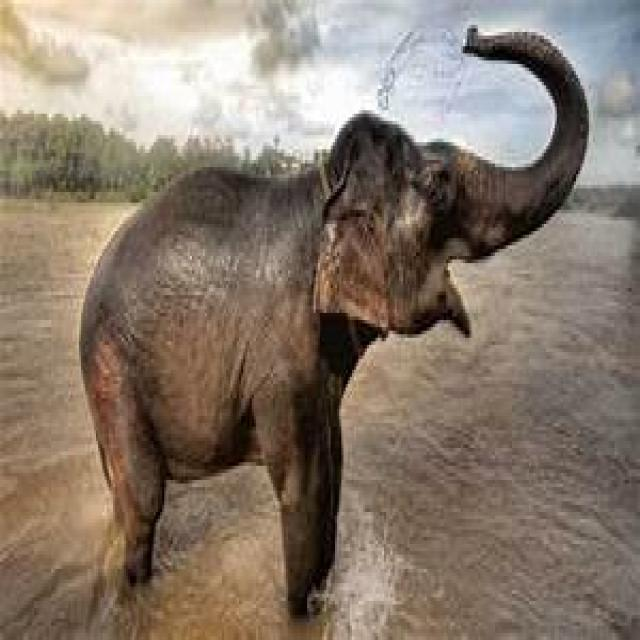elephant: (77, 36, 589, 619)
